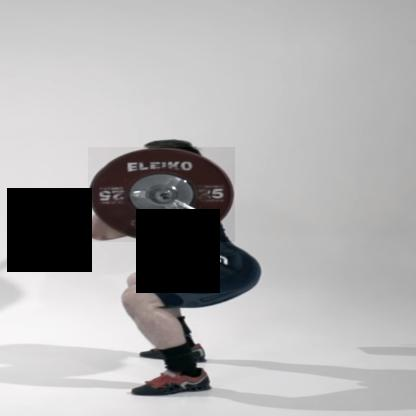barbell: (89, 148, 236, 243)
